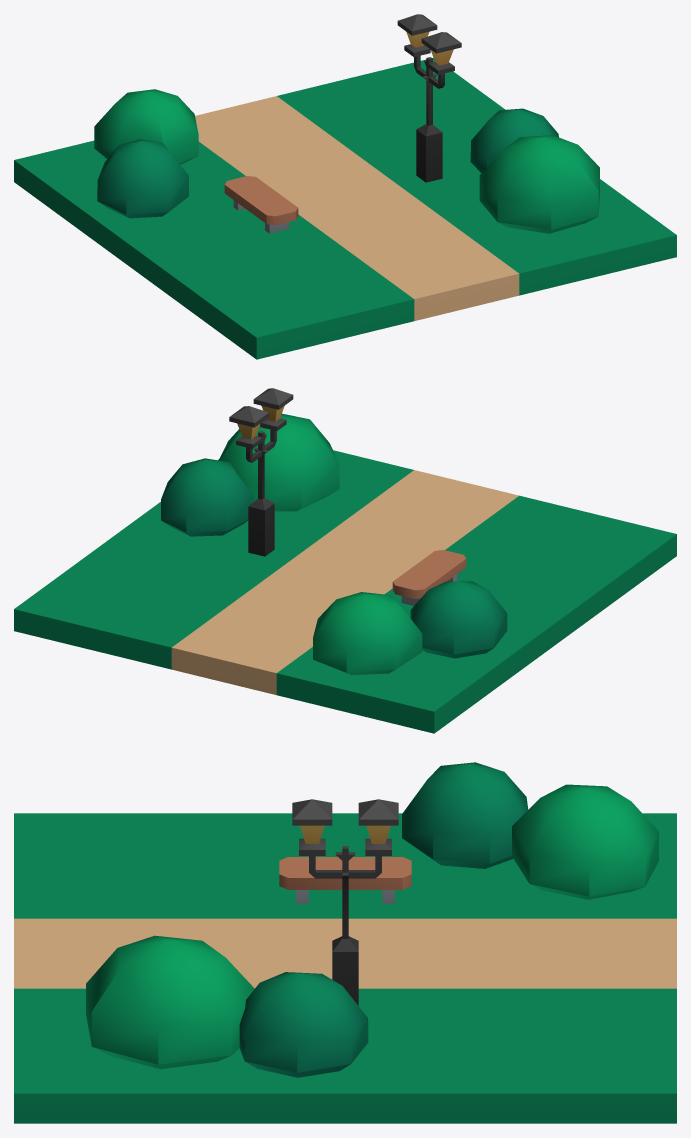
The model's file is park_road_straight_decorated_B.glb.
3 renders of one model, top to bottom at view 1: azimuth 30°, elevation 25°; view 2: azimuth 150°, elevation 25°; view 3: azimuth 270°, elevation 25°, orthographic. The views are drawn at different scales.
Parts seen in each view (by area): view 1: park_road_straight_decorated_B; view 2: park_road_straight_decorated_B; view 3: park_road_straight_decorated_B.
Part boxes in pixels (x1,y1,x2,y2): park_road_straight_decorated_B: (14,14,676,359); park_road_straight_decorated_B: (14,388,676,733); park_road_straight_decorated_B: (14,762,676,1123).
Size of the model in its own units: 2 by 0.8 by 2.
Materials: 1 (1 with a texture image).
